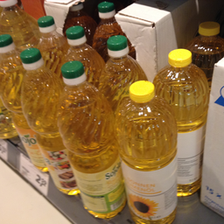oil: (53, 61, 126, 220), (18, 47, 77, 196), (117, 80, 178, 224), (151, 48, 204, 197)
